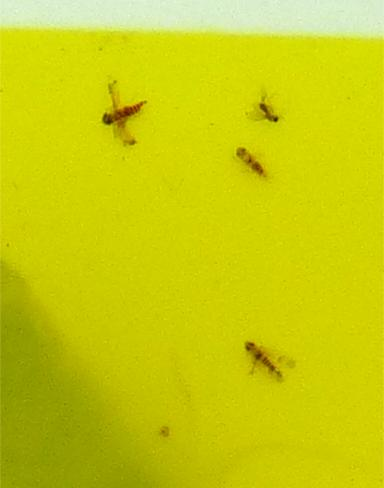Brachycera: (256, 100, 279, 123)
Hemiptera: (100, 100, 144, 150), (240, 338, 284, 388), (235, 144, 268, 177)
